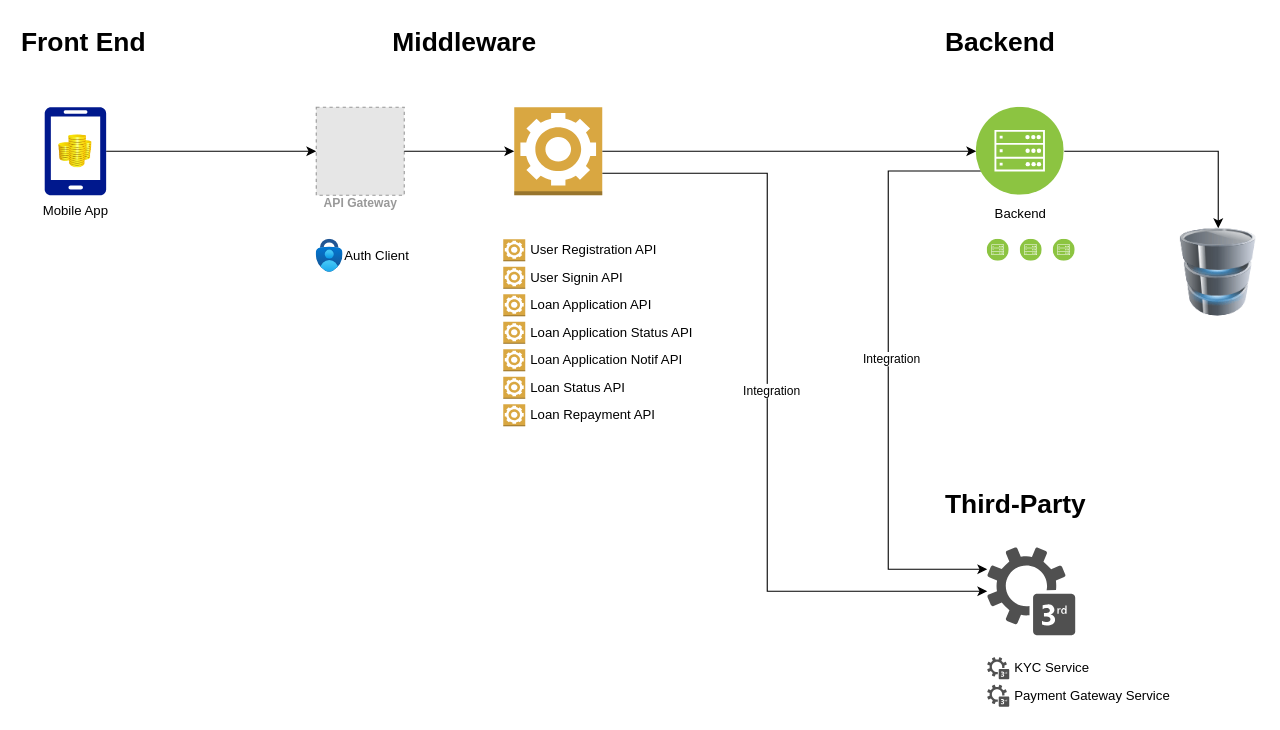
Image size: 1280x730. Some labels were removed from this diagram. Grey dashed boxes stand in for pictures. The shapes that lost their labels are listed below. From the top down, each one's centre as x and y in pixels, then its label:
[557,150]: API Service
[1218,272]: Database
